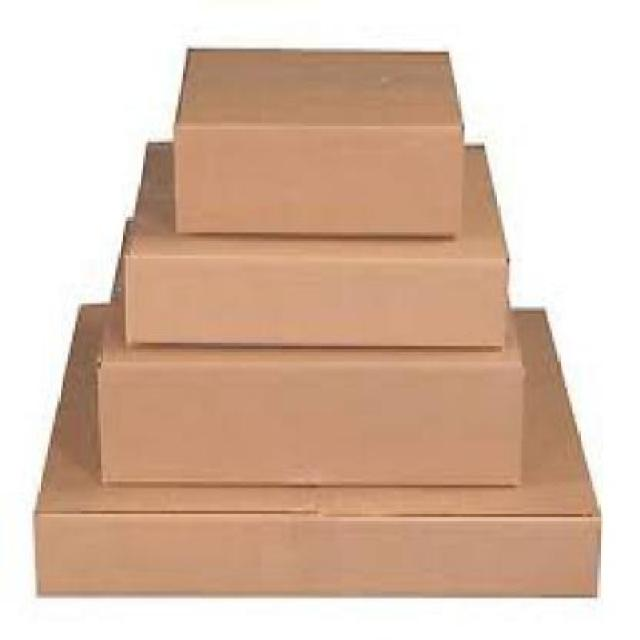CARDBOARD: (32, 300, 600, 594), (90, 217, 522, 488), (121, 140, 507, 342), (170, 45, 459, 233)
